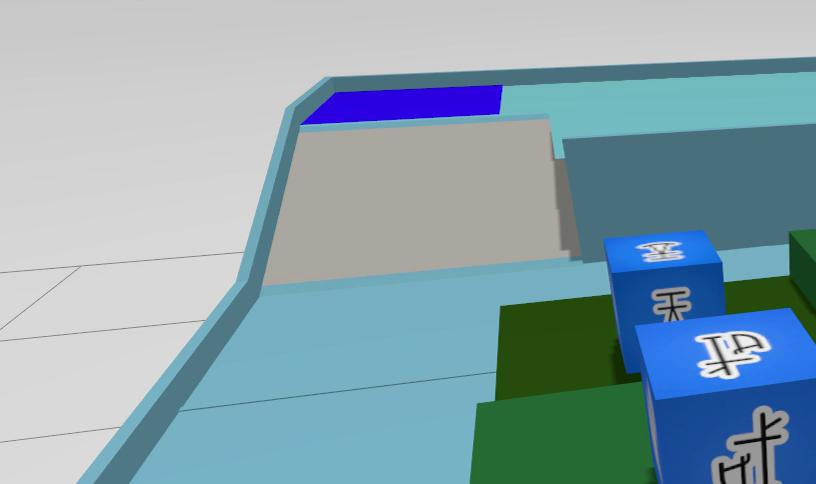KFS_REAL: (635, 309, 816, 484), (604, 232, 726, 372), (711, 406, 788, 484), (694, 331, 770, 378), (653, 288, 690, 320), (636, 241, 683, 261)
